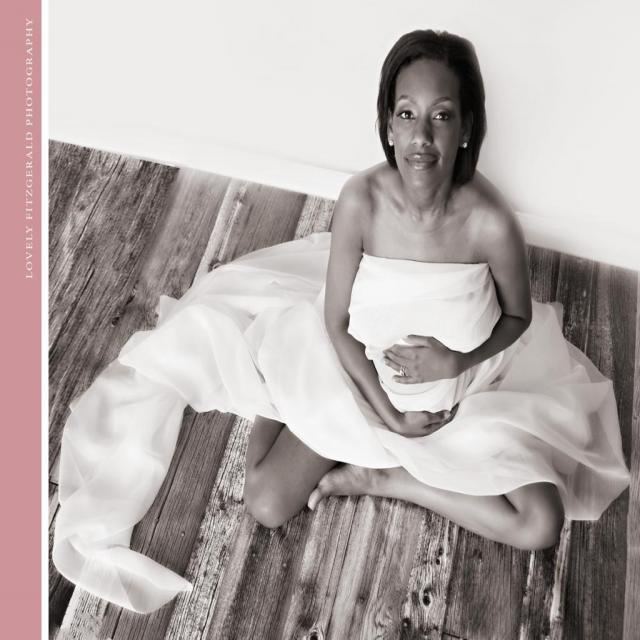nomask: (394, 66, 458, 188)
